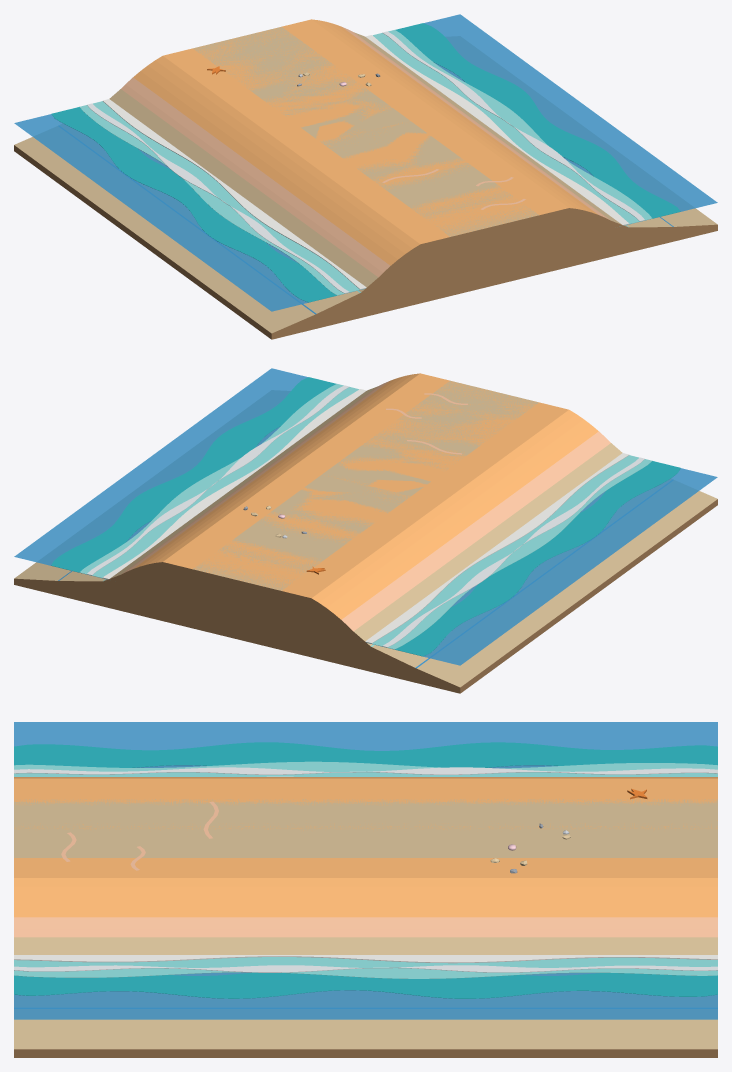
File: costa_areia_faixa.glb
3 views of the same model, one above another, from view 1: azimuth 30°, elevation 25°; view 2: azimuth 150°, elevation 25°; view 3: azimuth 270°, elevation 25° (orthographic). The views are drawn at different scales.
Visible parts, largest first — view 1: costa_areia_faixa, colisao_praia; view 2: costa_areia_faixa, colisao_praia; view 3: costa_areia_faixa, colisao_praia.
Boxes of the visible parts, box(x1,y1,x2,y2) form: costa_areia_faixa: box(14, 14, 717, 339); colisao_praia: box(14, 26, 717, 339); costa_areia_faixa: box(14, 368, 717, 692); colisao_praia: box(14, 380, 717, 693); costa_areia_faixa: box(14, 722, 717, 1057); colisao_praia: box(14, 798, 717, 1057).
Bounding box in the file's own units: 15 × 1.99 × 15.
Materials: 2 (1 with a texture image).
